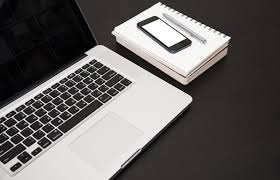mobil: (134, 14, 193, 54)
